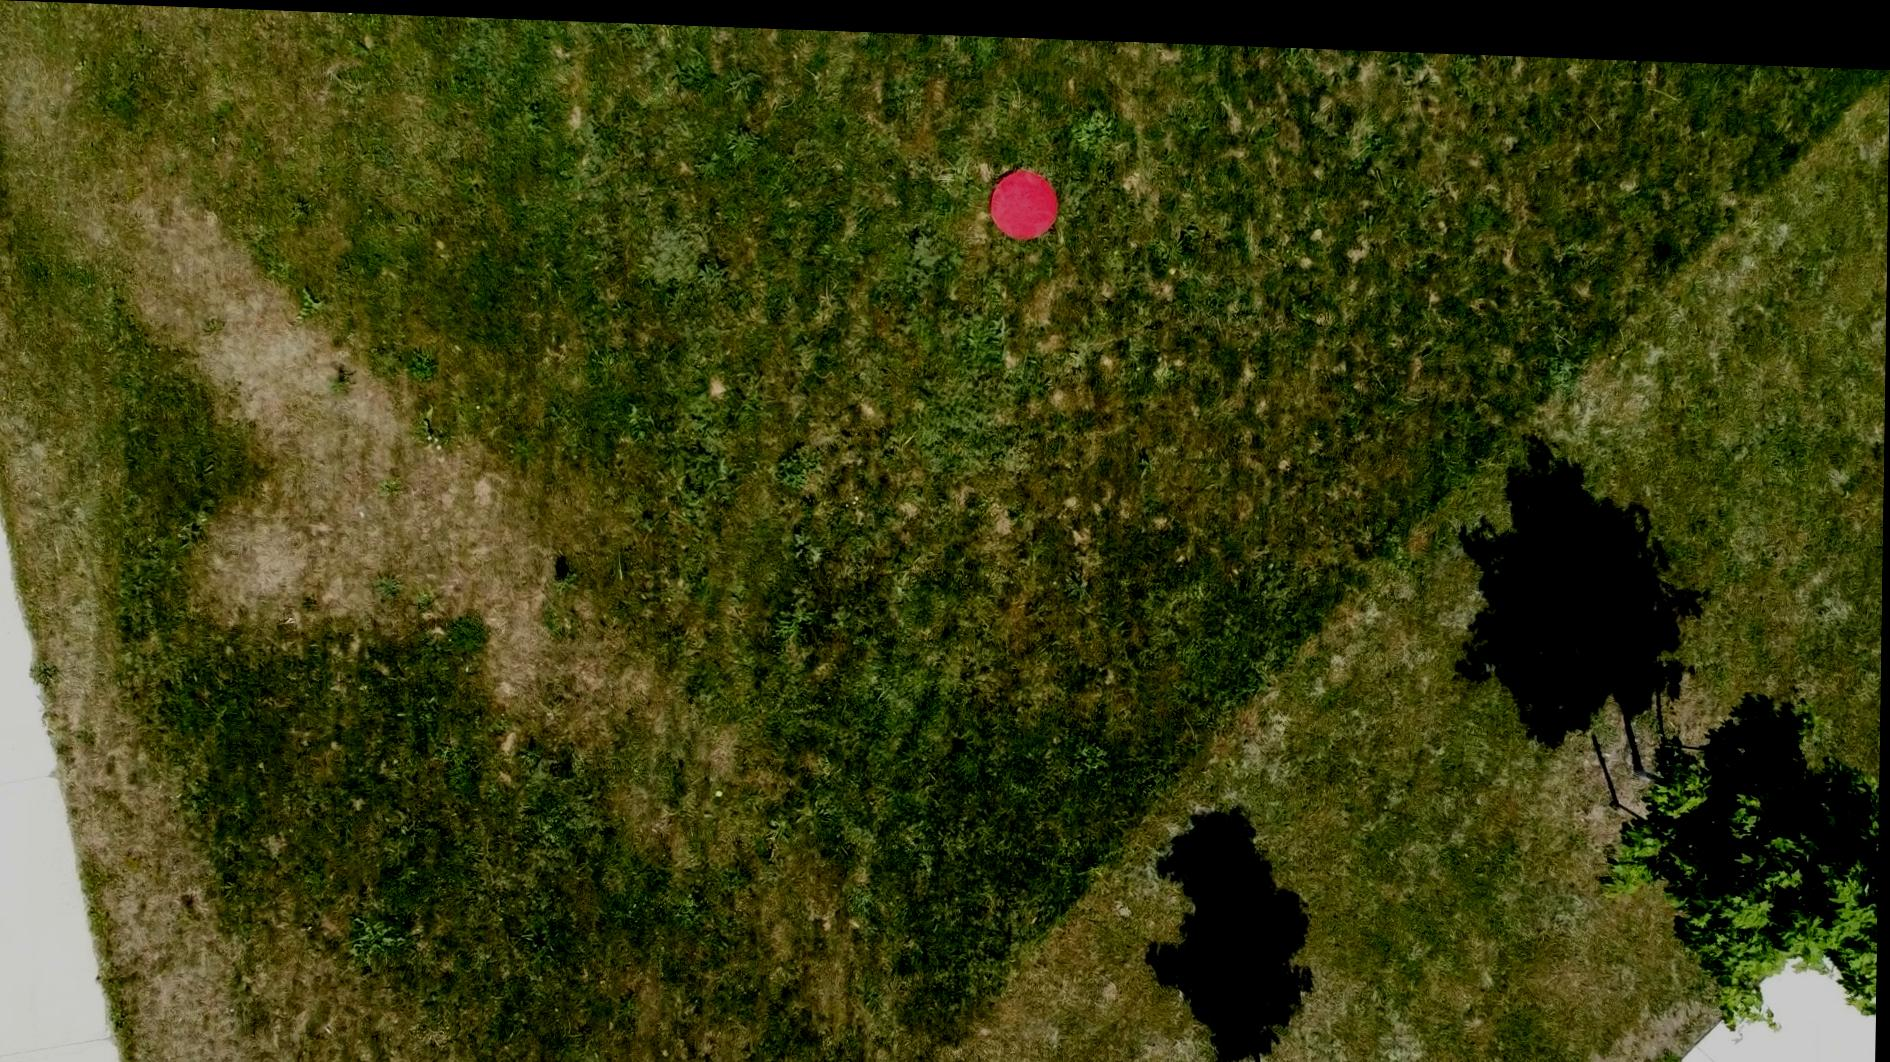Red: (988, 158, 1062, 235)
